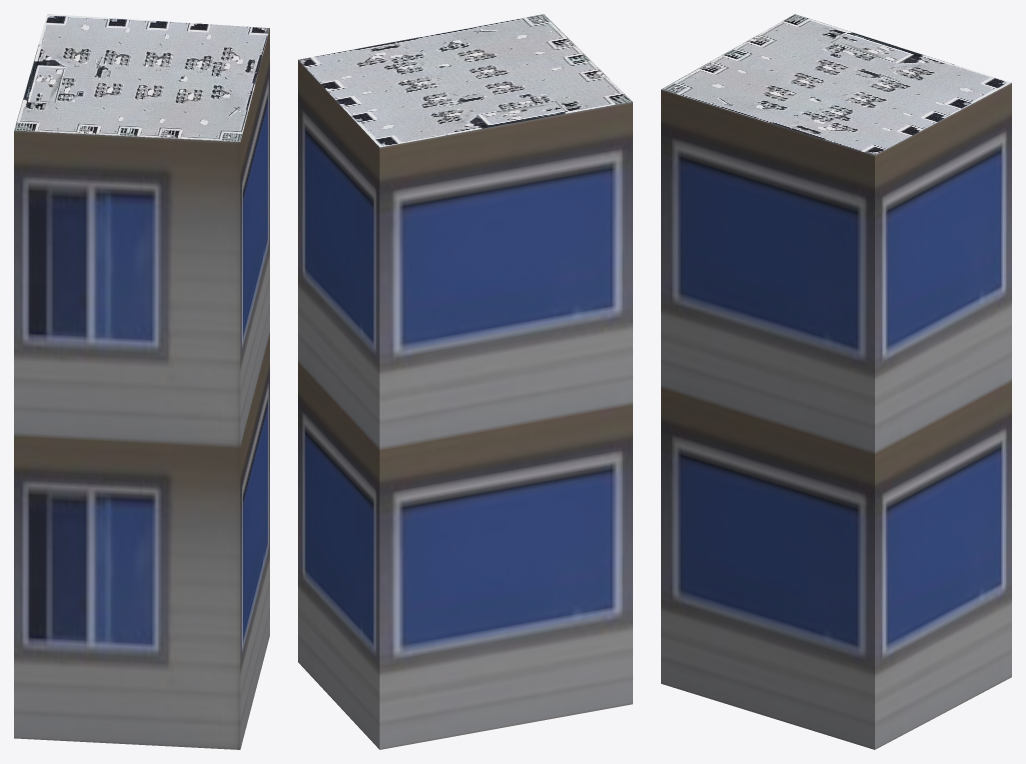
Rendered from ResTex__4454.fbx.
3 renders of one model, left to right at view 1: azimuth 30°, elevation 25°; view 2: azimuth 150°, elevation 25°; view 3: azimuth 270°, elevation 25°, orthographic. The views are drawn at different scales.
Parts seen in each view (by area): view 1: CityEngineMaterial_23_m, CityEngineMaterial_8_m; view 2: CityEngineMaterial_23_m, CityEngineMaterial_8_m; view 3: CityEngineMaterial_23_m, CityEngineMaterial_8_m.
Part boxes in pixels (x1,y1,x2,y2): CityEngineMaterial_23_m: (14,28,269,749); CityEngineMaterial_8_m: (14,14,269,141); CityEngineMaterial_23_m: (298,60,632,749); CityEngineMaterial_8_m: (298,14,632,147); CityEngineMaterial_23_m: (661,83,1011,749); CityEngineMaterial_8_m: (661,14,1011,155).
Size of the model in its own units: 3.06 by 6 by 3.21.
2 materials, 2 textured.
